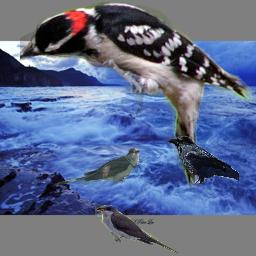Crow: (166, 136, 239, 184)
Cuckoo: (95, 205, 178, 255), (52, 147, 140, 187)
Woodpecker: (20, 0, 255, 192)
